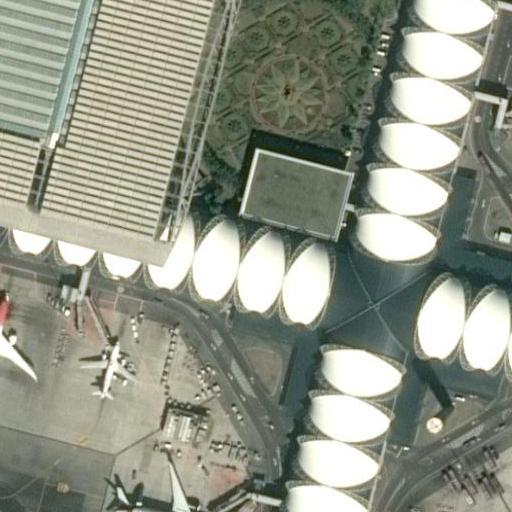Aircraft: (107, 454, 233, 512), (0, 281, 39, 414), (81, 325, 135, 402)
